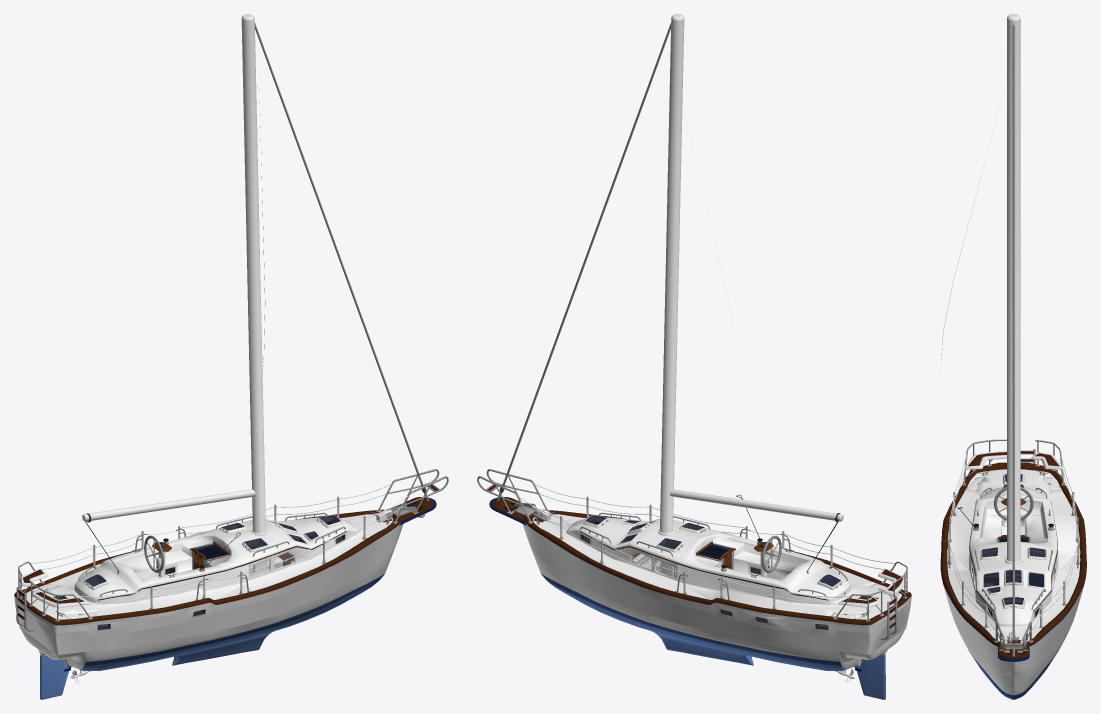
The model's file is vela.glb.
The picture shows the model from 3 angles, left to right: view 1: azimuth 30°, elevation 25°; view 2: azimuth 150°, elevation 25°; view 3: azimuth 270°, elevation 25°; orthographic projection. The views are drawn at different scales.
Parts seen in each view (by area): view 1: deco_base_material_other_01_001, topside_starboard, cabin, deck, deco_wood_04_001, bottom, deco_dark_032glass_001, transom, boot, rudder, keel; view 2: deco_base_material_other_01_001, topside_port, cabin, deck, deco_wood_04_001, bottom, deco_dark_032glass_001, transom, boot, rudder, keel; view 3: deco_base_material_other_01_001, cabin, deck, deco_wood_04_001, topside_port, topside_starboard, deco_dark_032glass_001, boot.
Part boxes in pixels (x1,y1,x2,y2): deco_base_material_other_01_001: [14, 14, 448, 683]; topside_starboard: [42, 522, 403, 661]; cabin: [74, 517, 359, 603]; deck: [26, 514, 393, 625]; deco_wood_04_001: [14, 484, 438, 625]; bottom: [67, 581, 378, 670]; deco_dark_032glass_001: [53, 515, 344, 629]; transom: [14, 599, 86, 669]; boot: [42, 573, 384, 665]; rudder: [40, 654, 68, 699]; keel: [172, 634, 269, 665]; deco_base_material_other_01_001: [477, 14, 911, 682]; topside_port: [522, 522, 883, 661]; cabin: [566, 517, 851, 603]; deck: [532, 514, 901, 619]; deco_wood_04_001: [487, 484, 911, 628]; bottom: [547, 581, 858, 670]; deco_dark_032glass_001: [581, 515, 878, 629]; transom: [839, 599, 911, 669]; boot: [541, 573, 883, 665]; rudder: [857, 654, 885, 699]; keel: [656, 634, 753, 665]; deco_base_material_other_01_001: [940, 14, 1079, 678]; cabin: [969, 487, 1058, 627]; deck: [947, 469, 1080, 695]; deco_wood_04_001: [940, 451, 1086, 658]; topside_port: [1013, 568, 1086, 695]; topside_starboard: [943, 585, 1012, 694]; deco_dark_032glass_001: [982, 474, 1045, 616]; boot: [968, 649, 1059, 698].
Size of the model in its own units: 11.6 by 16.91 by 3.4.
Materials: 12 (6 with a texture image).
